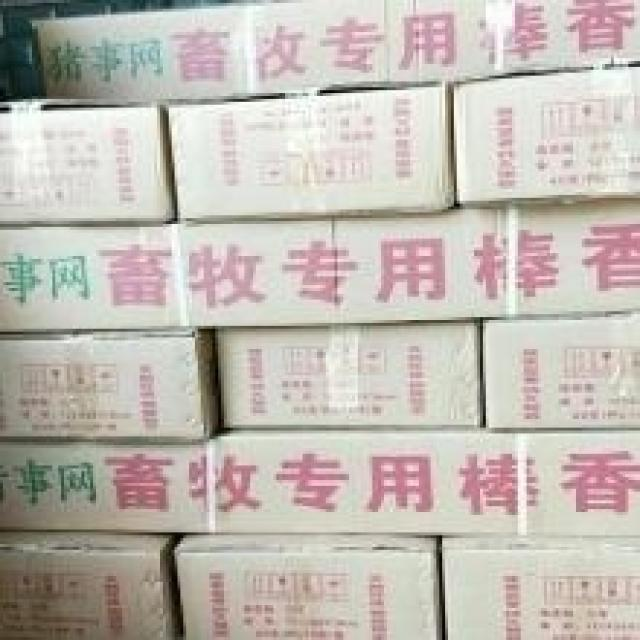box: (0, 195, 640, 332), (0, 425, 640, 535), (38, 0, 640, 102), (163, 84, 457, 221), (218, 320, 483, 428), (175, 535, 442, 640), (454, 64, 640, 204), (0, 329, 221, 445), (0, 99, 177, 224), (442, 535, 640, 640), (0, 532, 177, 640), (483, 311, 640, 431)
